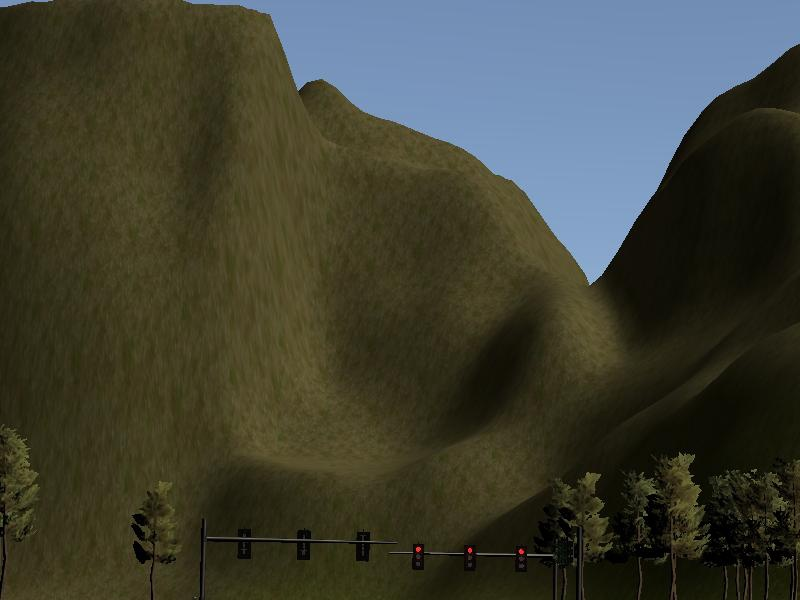red_light: (413, 543, 425, 574), (517, 545, 528, 570), (467, 546, 475, 570)
